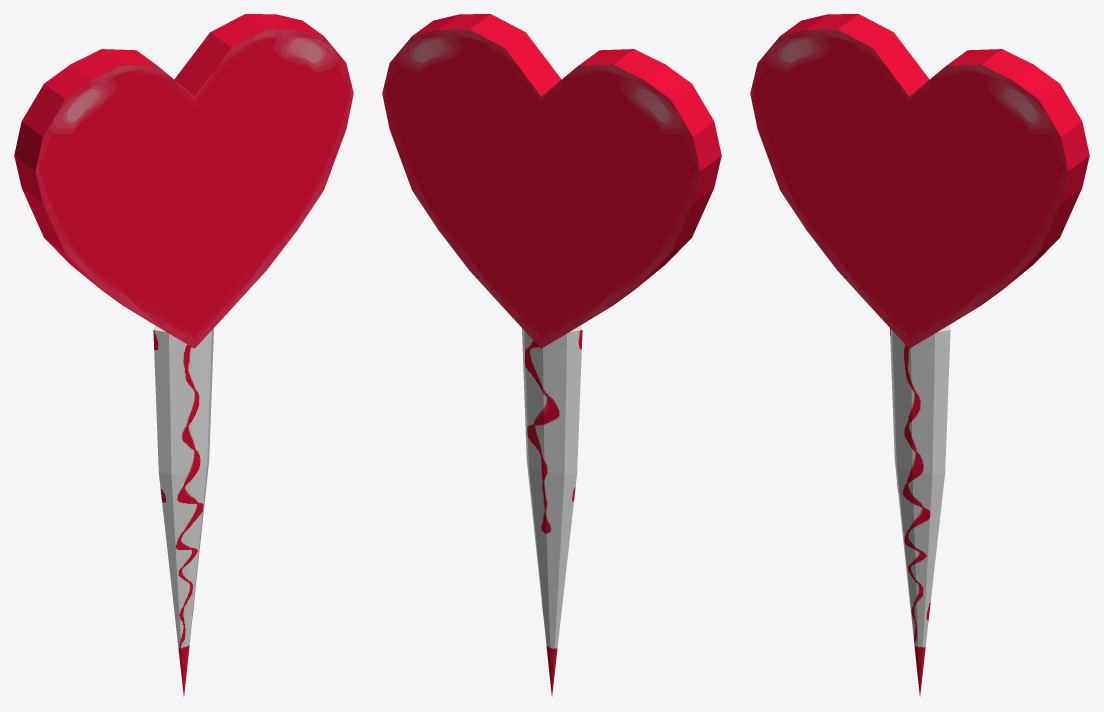
The model's file is Pirulistaca.fbx.
The picture shows the model from 3 angles, left to right: view 1: azimuth 30°, elevation 25°; view 2: azimuth 150°, elevation 25°; view 3: azimuth 330°, elevation 25°; orthographic projection.
Parts seen in each view (by area): view 1: Spike; view 2: Spike; view 3: Spike.
Boxes of the visible parts, bbox=[...] form: Spike: bbox=[14, 14, 353, 696]; Spike: bbox=[382, 14, 721, 696]; Spike: bbox=[750, 14, 1089, 696].
Size of the model in its own units: 54.32 by 107 by 6.31.
